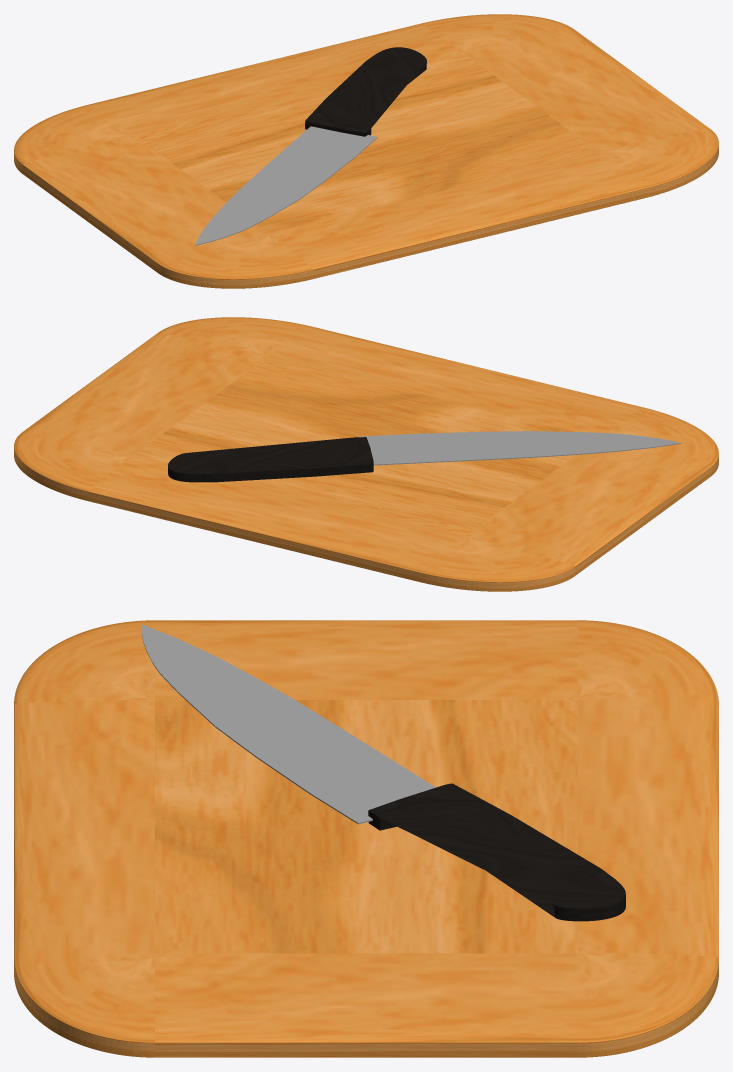
Rendered from KitchenKnife.fbx.
3 views of the same model, one above another, from view 1: azimuth 30°, elevation 25°; view 2: azimuth 150°, elevation 25°; view 3: azimuth 270°, elevation 25° (orthographic). The views are drawn at different scales.
Parts seen in each view (by area): view 1: Wood, Deckfläche_1, Deckfläche_1_2; view 2: Wood, Deckfläche_1, Deckfläche_1_2, Extrudieren, Extrudieren_1; view 3: Wood, Deckfläche_1, Deckfläche_1_2, Extrudieren.
Boxes of the visible parts, x1=… form: Wood: x1=14, y1=14, x2=718, y2=288; Deckfläche_1: x1=195, y1=126, x2=376, y2=244; Deckfläche_1_2: x1=305, y1=47, x2=426, y2=132; Wood: x1=14, y1=317, x2=718, y2=591; Deckfläche_1: x1=360, y1=431, x2=680, y2=464; Deckfläche_1_2: x1=168, y1=437, x2=373, y2=474; Extrudieren: x1=168, y1=463, x2=373, y2=482; Extrudieren_1: x1=373, y1=443, x2=681, y2=465; Wood: x1=14, y1=620, x2=718, y2=1057; Deckfläche_1: x1=141, y1=624, x2=435, y2=822; Deckfläche_1_2: x1=369, y1=783, x2=625, y2=908; Extrudieren: x1=368, y1=810, x2=625, y2=921.
Size of the model in its own units: 1405 by 65.13 by 992.
3 materials, 2 textured.
